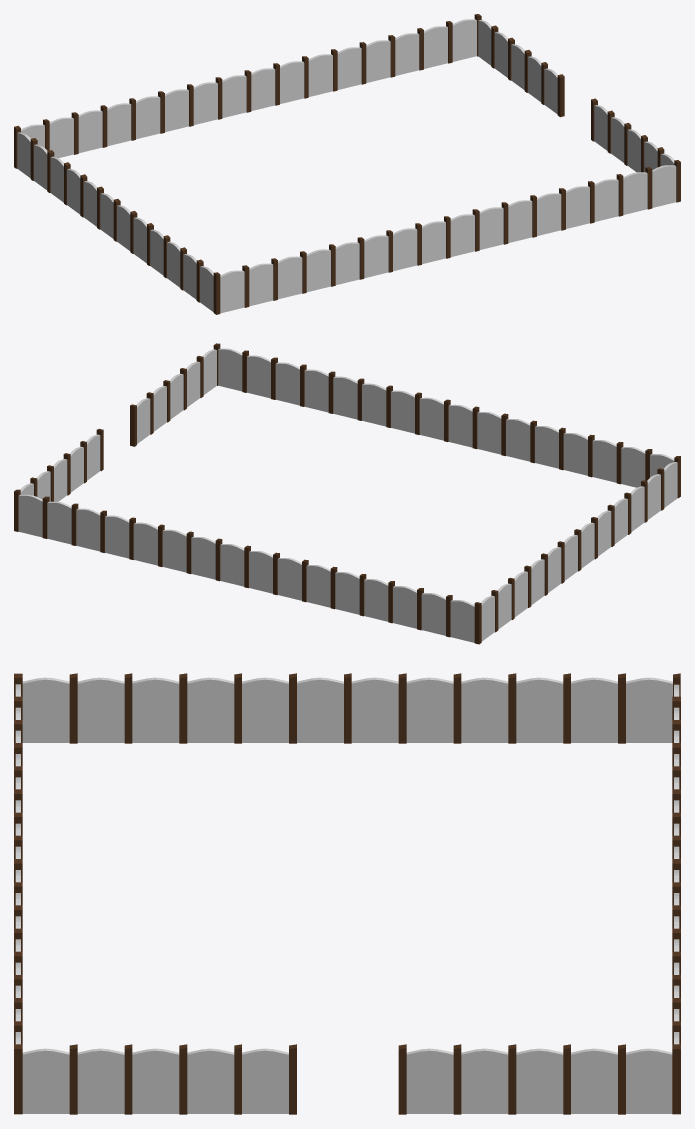
File: Valla.fbx
3 views of the same model, one above another, from view 1: azimuth 30°, elevation 25°; view 2: azimuth 150°, elevation 25°; view 3: azimuth 270°, elevation 25° (orthographic). The views are drawn at different scales.
Parts seen in each view (by area): view 1: VallaLeft, VallaRight, VallaBack, VallaFront; view 2: VallaLeft, VallaRight, VallaBack, VallaFront; view 3: VallaBack, VallaFront, VallaRight, VallaLeft.
Part boxes in pixels (bbox=[...]): VallaLeft: bbox=[213, 160, 680, 314]; VallaRight: bbox=[43, 14, 491, 158]; VallaBack: bbox=[14, 124, 213, 311]; VallaFront: bbox=[491, 25, 674, 172]; VallaLeft: bbox=[213, 343, 680, 498]; VallaRight: bbox=[14, 483, 452, 637]; VallaBack: bbox=[450, 462, 677, 644]; VallaFront: bbox=[30, 349, 216, 501]; VallaBack: bbox=[22, 673, 680, 743]; VallaFront: bbox=[22, 1044, 625, 1114]; VallaRight: bbox=[626, 696, 680, 1114]; VallaLeft: bbox=[14, 673, 22, 1114].
Bounding box in the file's own units: 2547 × 211 × 1916.
